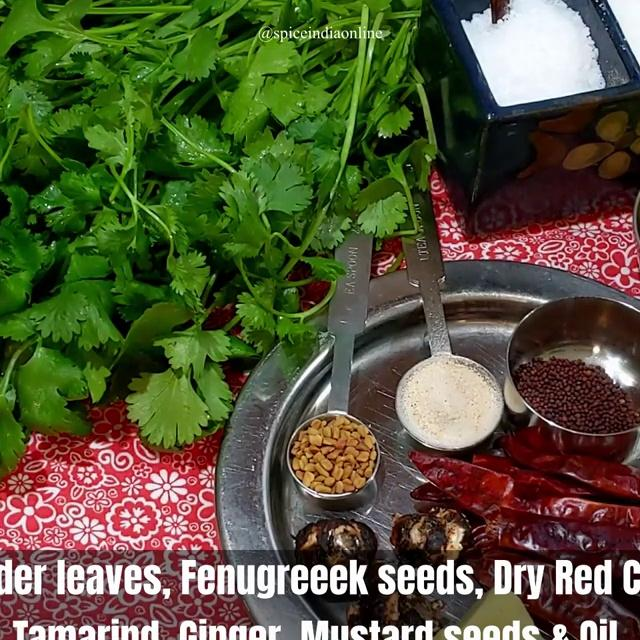cilantro: (0, 0, 333, 382)
